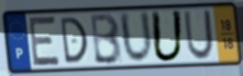B: (90, 11, 124, 66)
D: (59, 16, 90, 66)
E: (28, 15, 62, 69)
U: (118, 9, 156, 66), (149, 9, 185, 64), (182, 9, 215, 62)
